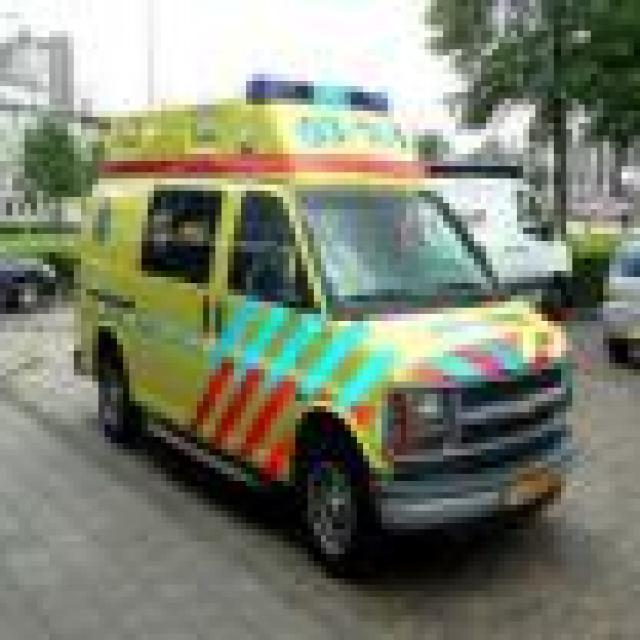emergency-vehicle: (83, 73, 588, 584)
